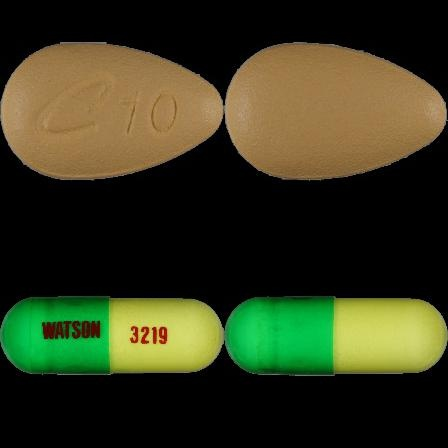16590-905: (0, 0, 224, 224)
